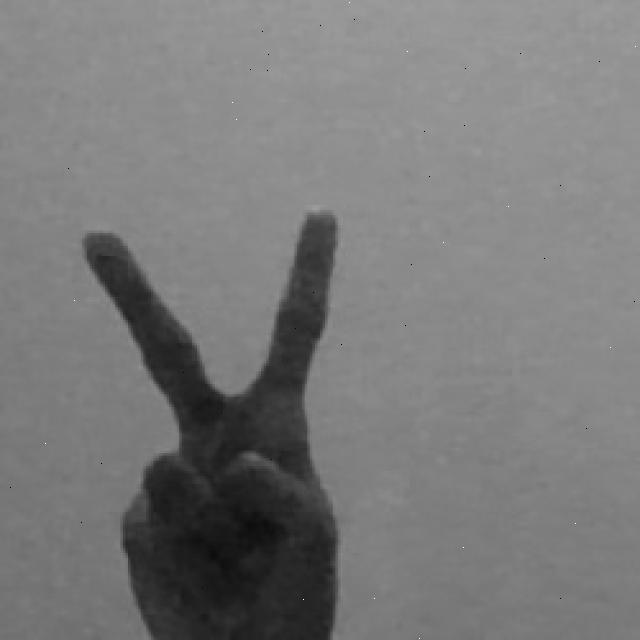V: (79, 202, 349, 640)
